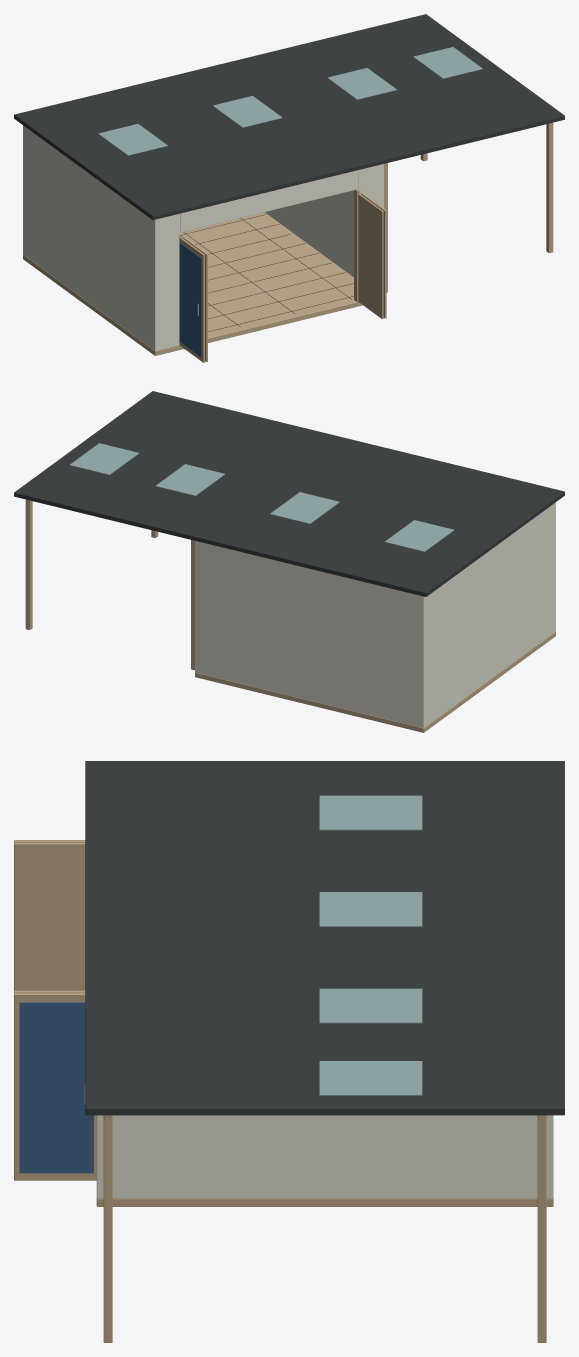
The model's file is textile-weaving-and-dye-workshop-roofed-textile-worksh-efe6d9a0__29580.glb.
3 renders of one model, top to bottom at view 1: azimuth 30°, elevation 25°; view 2: azimuth 150°, elevation 25°; view 3: azimuth 270°, elevation 25°, orthographic. The views are drawn at different scales.
Parts seen in each view (by area): view 1: roofed-textile-workshop; view 2: roofed-textile-workshop; view 3: roofed-textile-workshop.
Boxes of the visible parts, box(x1,y1,x2,y2) form: roofed-textile-workshop: box(14, 14, 564, 362); roofed-textile-workshop: box(14, 391, 564, 732); roofed-textile-workshop: box(14, 761, 564, 1342).
Size of the model in its own units: 14.4 by 4.83 by 9.65.
